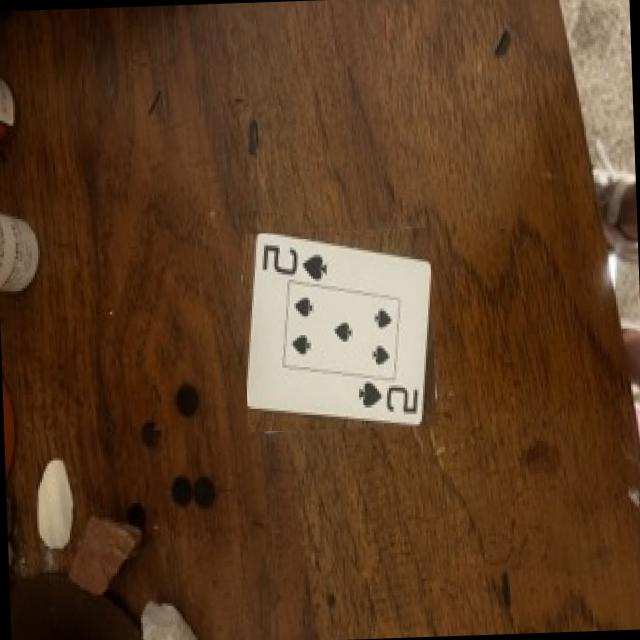5 of spades: (247, 233, 431, 425)
